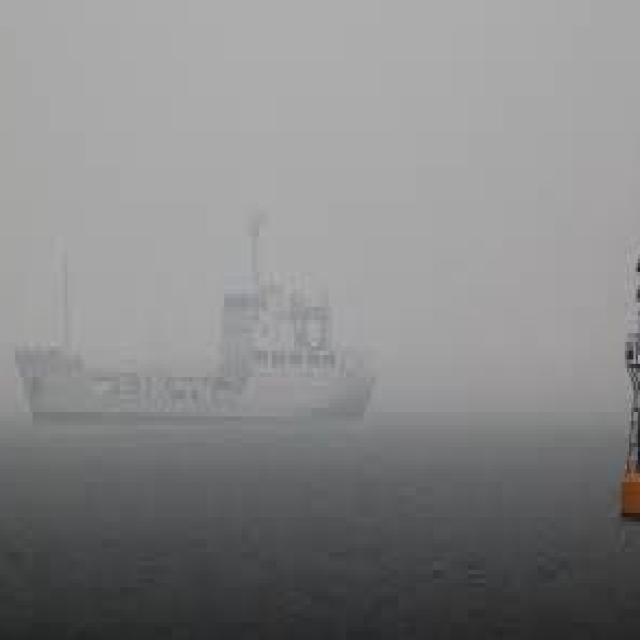buoy: (614, 232, 640, 513)
cargoship: (24, 202, 382, 431)
